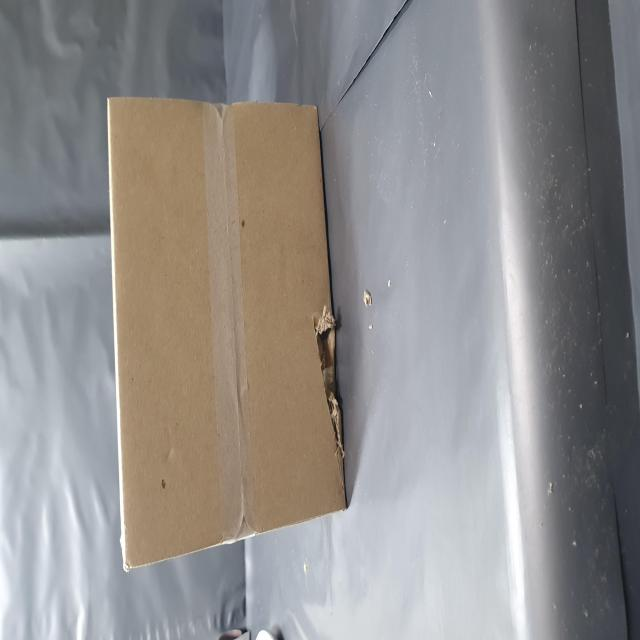damaged: (97, 554, 185, 605)
